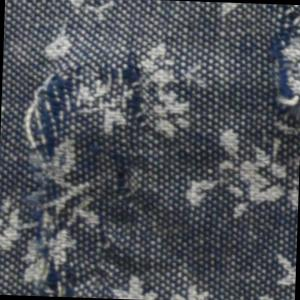Damage: (15, 42, 155, 300), (254, 4, 300, 155)
